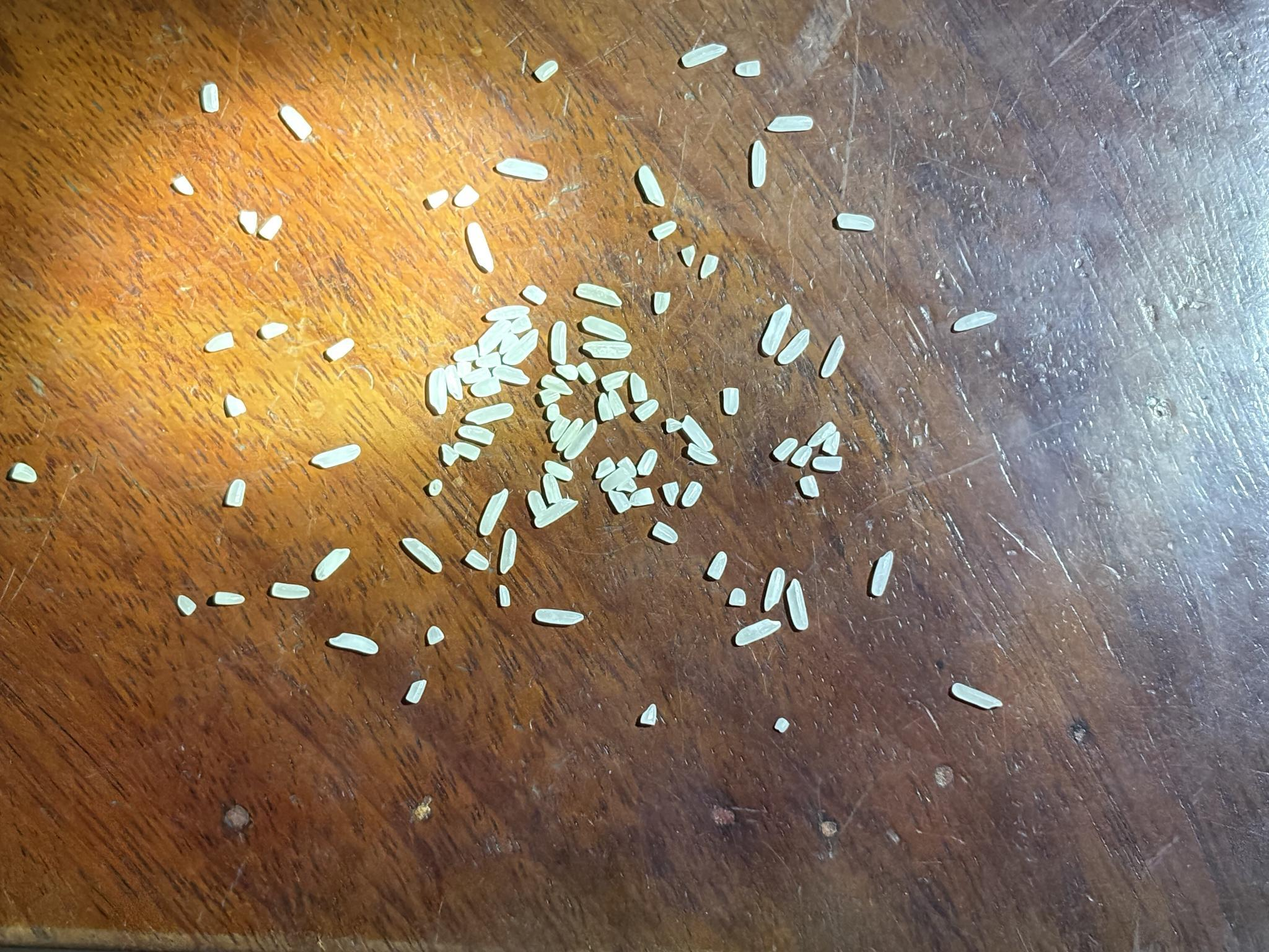Rice-th-y-nh: (757, 302, 796, 357), (496, 150, 548, 189), (462, 220, 499, 274), (735, 612, 781, 653), (475, 487, 512, 537), (534, 492, 578, 534), (464, 396, 514, 432), (576, 275, 622, 314), (780, 579, 814, 631), (563, 417, 600, 464), (680, 37, 727, 74), (400, 535, 444, 574), (581, 309, 627, 346), (329, 626, 379, 660), (582, 334, 633, 367), (951, 680, 1003, 712), (534, 600, 585, 632), (866, 550, 900, 597), (775, 326, 813, 368), (422, 366, 454, 415), (502, 328, 541, 368), (767, 108, 814, 141), (816, 334, 849, 380), (476, 317, 512, 359), (634, 164, 668, 208), (953, 304, 997, 338), (758, 566, 789, 613), (494, 528, 524, 575), (543, 320, 573, 366), (680, 413, 715, 452), (744, 140, 773, 187), (311, 443, 361, 469), (836, 206, 875, 239), (485, 299, 530, 327), (314, 547, 351, 580), (279, 104, 312, 140), (552, 417, 584, 453), (493, 359, 529, 391), (269, 577, 310, 604), (455, 422, 496, 447), (806, 420, 837, 450), (600, 465, 630, 496), (537, 472, 564, 506), (599, 366, 629, 396), (625, 371, 652, 404), (540, 372, 574, 397), (452, 182, 481, 211), (705, 550, 731, 582), (685, 442, 718, 467), (443, 364, 465, 401), (812, 451, 843, 477), (542, 458, 574, 483), (605, 487, 633, 515), (632, 395, 660, 423), (628, 483, 657, 510), (635, 447, 661, 477), (470, 376, 502, 400), (603, 389, 629, 418), (719, 385, 743, 416), (593, 391, 616, 423), (651, 217, 678, 244), (403, 678, 429, 706), (547, 414, 571, 444), (680, 479, 704, 509), (524, 488, 548, 518), (772, 435, 798, 462), (734, 56, 762, 81), (325, 337, 355, 360), (798, 473, 823, 500), (651, 520, 679, 544), (462, 365, 492, 387), (789, 443, 814, 469), (475, 349, 503, 372), (225, 478, 247, 507), (205, 331, 235, 352), (259, 214, 283, 240), (650, 289, 673, 316), (698, 253, 721, 280), (575, 359, 598, 386), (660, 479, 682, 507), (452, 342, 480, 364), (452, 440, 481, 461), (616, 454, 639, 480), (522, 283, 548, 306), (822, 430, 844, 457), (555, 361, 580, 384), (510, 312, 533, 337), (464, 549, 490, 571), (238, 209, 260, 235), (498, 331, 520, 357), (594, 456, 616, 481), (260, 321, 288, 340), (225, 394, 248, 417), (534, 60, 558, 82), (427, 188, 451, 210), (615, 475, 640, 496), (202, 83, 220, 112), (213, 590, 245, 606), (439, 443, 461, 466), (639, 703, 660, 727), (11, 462, 37, 481), (678, 244, 698, 268), (538, 387, 562, 407), (662, 414, 683, 436), (727, 586, 748, 608), (495, 583, 513, 607), (177, 595, 197, 616), (173, 176, 194, 196), (545, 402, 563, 422), (455, 360, 474, 378), (773, 716, 791, 734), (428, 478, 445, 497)
